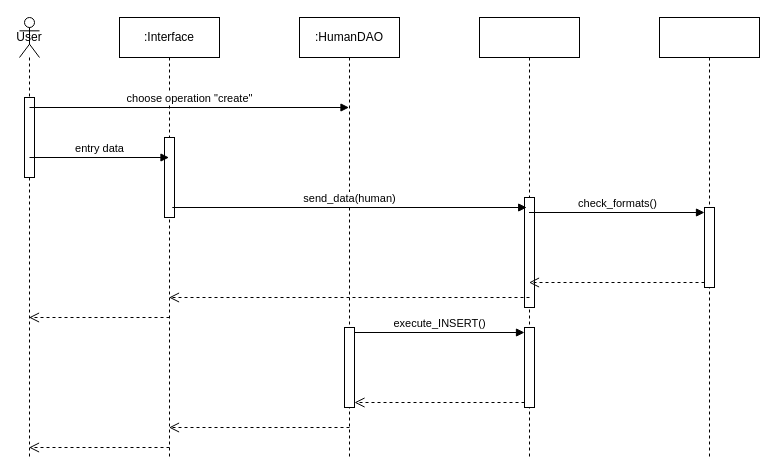
Some shapes in this 777 by 475 pixel diagram are drawn without their labels. Here are the shapes that lost their labels. From the top down, the centre of each, then its label:
At pixel 529 237: ":SQLiteDB".
At pixel 709 237: ":Validator".
